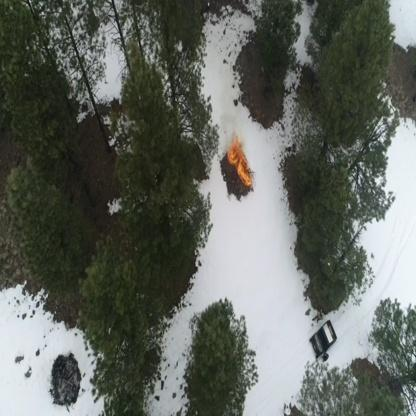Fire: (226, 133, 253, 187)
